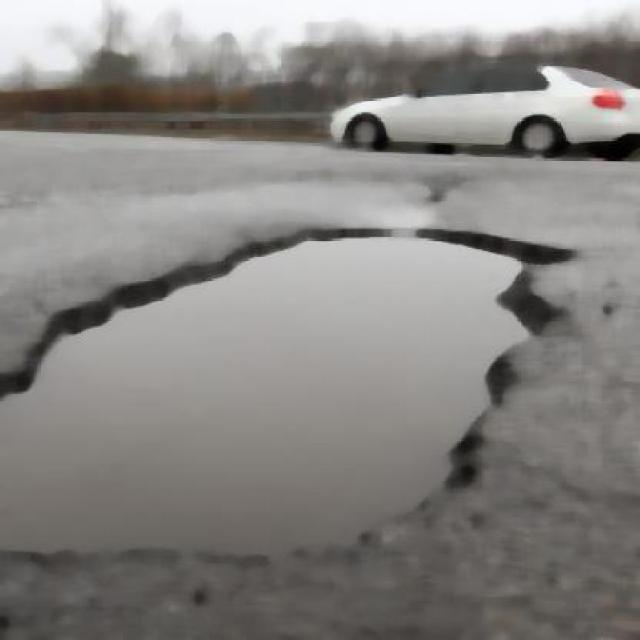pothole: (0, 226, 563, 545)
